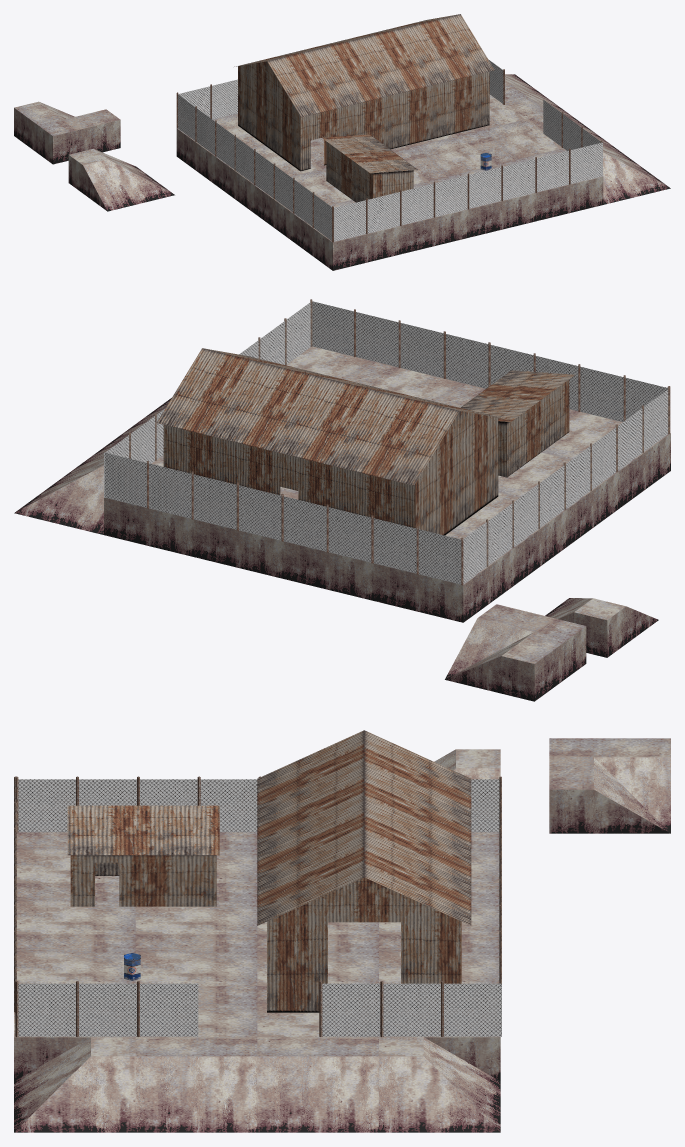
File: BasicLevel.gltf
3 renders of one model, top to bottom at view 1: azimuth 30°, elevation 25°; view 2: azimuth 150°, elevation 25°; view 3: azimuth 270°, elevation 25°, orthographic. The views are drawn at different scales.
Visible parts, largest first — view 1: Shed A-col, Fence-col, Inside Corner Ramp-col, Shack A-col, Outside Corner Ramp-col, Square Platform.006-col, Square Platform.014-col, Square Platform.012-col, Square Platform.015-col, Square Platform.013-col, Outside Corner Ramp.001-col, Square Platform.004-col (+6 smaller); view 2: Fence-col, Shed A-col, Inside Corner Ramp-col, Shack A-col, Square Platform-col, Square Platform.006-col, Outside Corner Ramp.002-col, Square Platform.004-col, Square Platform.008-col, Square Platform.010-col, Outside Corner Ramp-col, Square Platform.002-col (+3 smaller); view 3: Shed A-col, Fence-col, Shack A-col, Straight Ramp-col, Inside Corner Ramp-col, Straight Ramp.001-col, Outside Corner Ramp.001-col, Outside Corner Ramp.002-col, Square Platform.012-col, Square Platform.013-col, Square Platform.007-col, Square Platform.005-col (+12 smaller).
Part boxes in pixels (x1,y1,x2,y2): Shed A-col: [234, 14, 494, 171]; Fence-col: [176, 59, 602, 242]; Inside Corner Ramp-col: [14, 101, 120, 164]; Shack A-col: [322, 134, 417, 202]; Outside Corner Ramp-col: [68, 148, 174, 211]; Square Platform.006-col: [294, 200, 400, 270]; Square Platform.014-col: [458, 119, 562, 164]; Square Platform.012-col: [394, 136, 496, 180]; Square Platform.015-col: [497, 148, 603, 221]; Square Platform.013-col: [429, 164, 535, 237]; Outside Corner Ramp.001-col: [603, 148, 670, 204]; Square Platform.004-col: [255, 169, 351, 241]; Fence-col: [104, 299, 670, 585]; Shed A-col: [157, 348, 503, 535]; Inside Corner Ramp-col: [445, 604, 586, 701]; Shack A-col: [460, 370, 575, 477]; Square Platform-col: [373, 531, 515, 622]; Square Platform.006-col: [542, 412, 670, 508]; Outside Corner Ramp.002-col: [14, 459, 103, 534]; Square Platform.004-col: [498, 452, 618, 546]; Square Platform.008-col: [193, 490, 298, 578]; Square Platform.010-col: [104, 460, 193, 556]; Outside Corner Ramp-col: [545, 598, 658, 657]; Square Platform.002-col: [283, 541, 373, 600]; Shed A-col: [257, 730, 471, 1012]; Fence-col: [14, 776, 501, 1036]; Shack A-col: [67, 805, 219, 906]; Straight Ramp-col: [135, 1037, 257, 1132]; Inside Corner Ramp-col: [549, 738, 670, 833]; Straight Ramp.001-col: [257, 1037, 378, 1132]; Outside Corner Ramp.001-col: [14, 1037, 135, 1132]; Outside Corner Ramp.002-col: [379, 1037, 500, 1132]; Square Platform.012-col: [135, 934, 257, 985]; Square Platform.013-col: [17, 934, 135, 983]; Square Platform.007-col: [17, 883, 135, 934]; Square Platform.005-col: [135, 883, 257, 934].
Bounding box in the file's own units: 33 × 8.2 × 27.
Materials: 6 (6 with a texture image).
